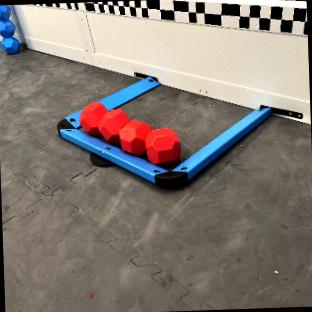V5_BLUE: (0, 5, 19, 53)
V5_RED: (80, 103, 181, 164)
